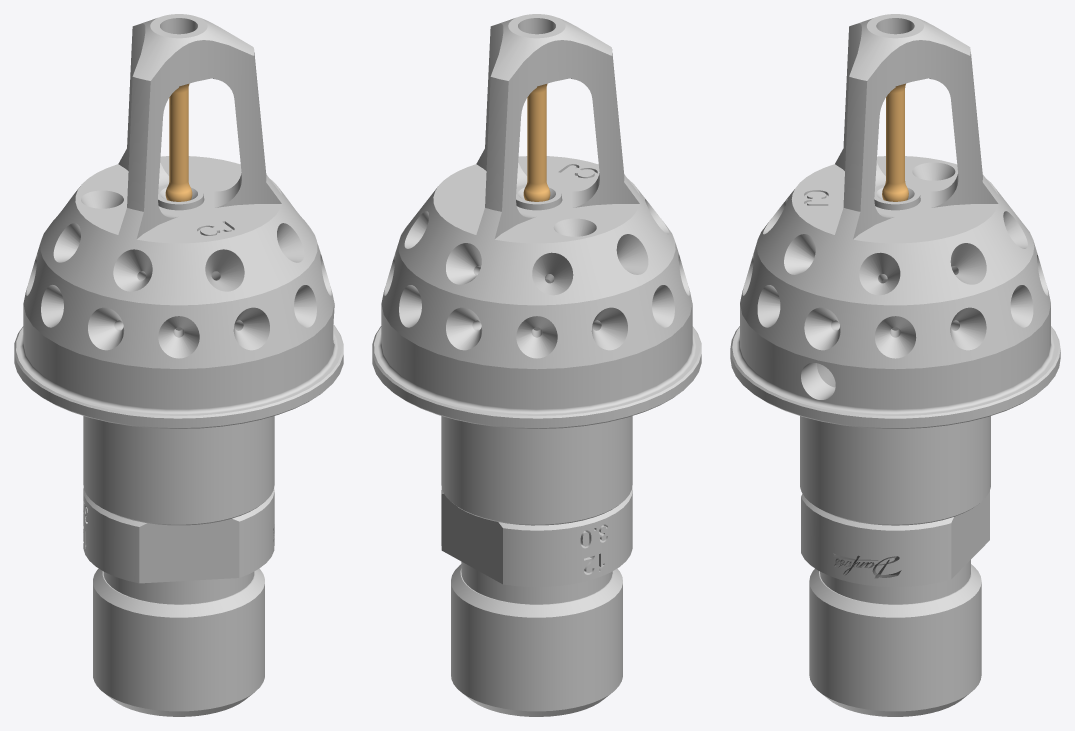
Rendered from Nozzle.glb.
3 renders of one model, left to right at view 1: azimuth 30°, elevation 25°; view 2: azimuth 150°, elevation 25°; view 3: azimuth 270°, elevation 25°, orthographic.
Visible parts, largest first — view 1: Solid1, Solid1.007, Solid1.002, Solid1.004; view 2: Solid1, Solid1.007, Solid1.002, Solid1.004; view 3: Solid1, Solid1.007, Solid1.002, Solid1.004.
Part boxes in pixels (left/top/right/bottom): Solid1: left=14, top=14, right=343, bottom=525; Solid1.007: left=83, top=487, right=274, bottom=716; Solid1.002: left=165, top=83, right=192, bottom=201; Solid1.004: left=158, top=184, right=203, bottom=210; Solid1: left=372, top=14, right=701, bottom=525; Solid1.007: left=441, top=487, right=632, bottom=716; Solid1.002: left=523, top=83, right=550, bottom=201; Solid1.004: left=516, top=184, right=561, bottom=210; Solid1: left=730, top=14, right=1060, bottom=525; Solid1.007: left=801, top=491, right=989, bottom=716; Solid1.002: left=882, top=83, right=908, bottom=201; Solid1.004: left=874, top=184, right=920, bottom=210.
Size of the model in its own units: 0.0344 by 0.076 by 0.0345.
